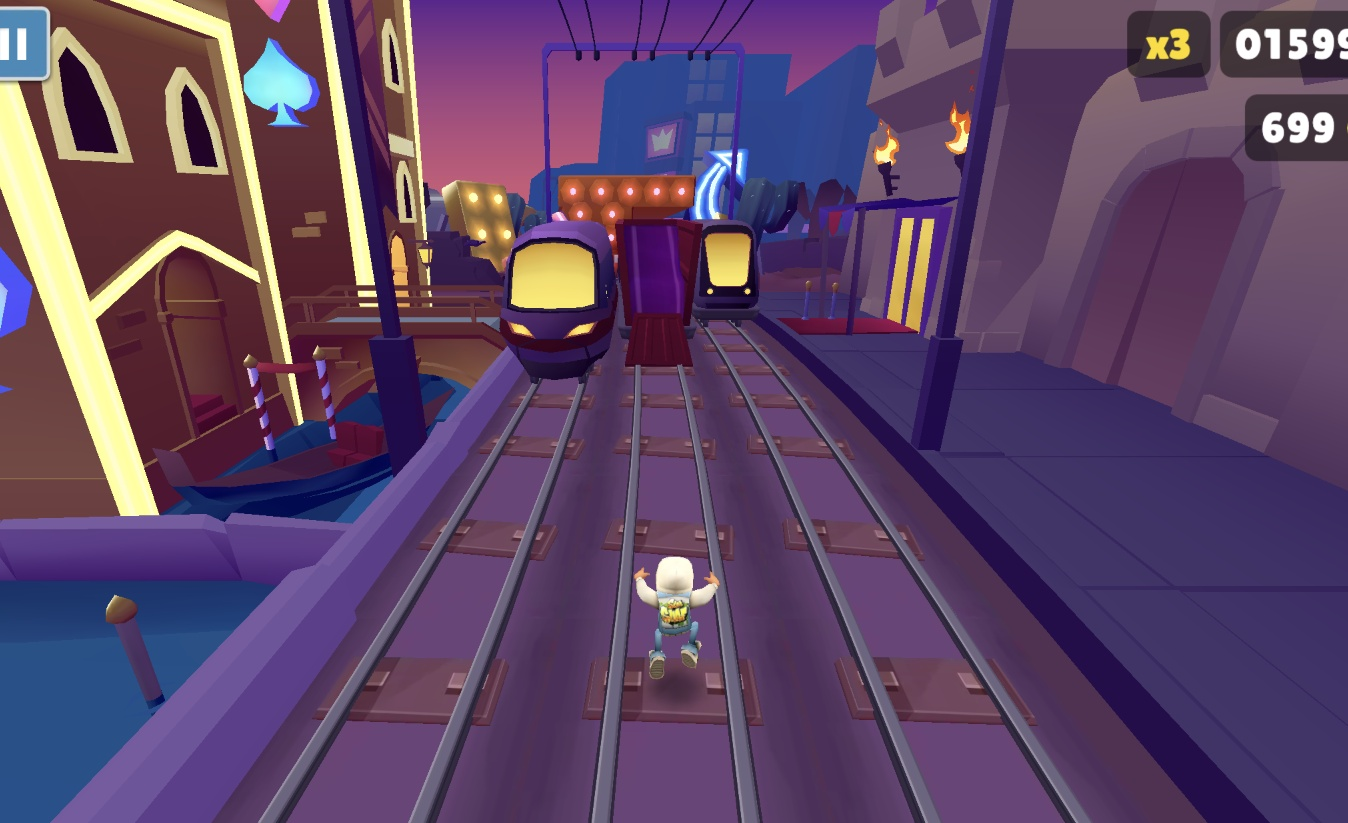pillar: (583, 203, 620, 250)
train: (499, 217, 620, 383), (617, 220, 701, 370), (694, 223, 762, 320)
